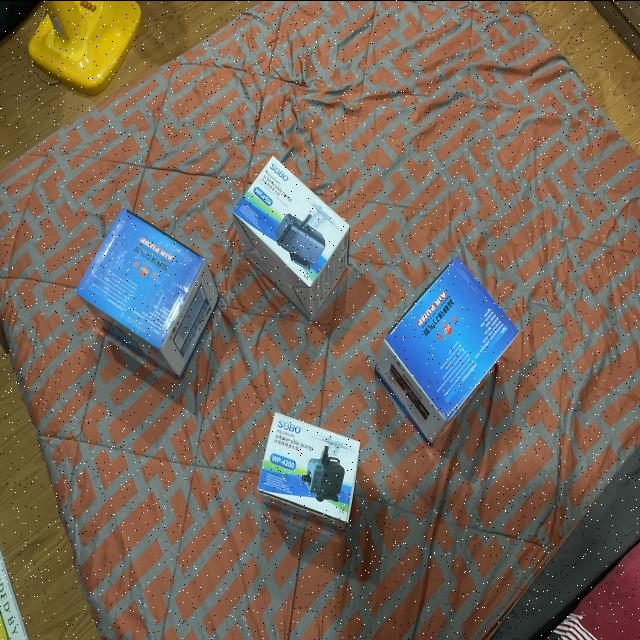SOBO_WP_4200: (222, 137, 354, 315), (244, 401, 364, 538)
YAMANO_LPP_20: (368, 236, 518, 446), (68, 192, 216, 374)
